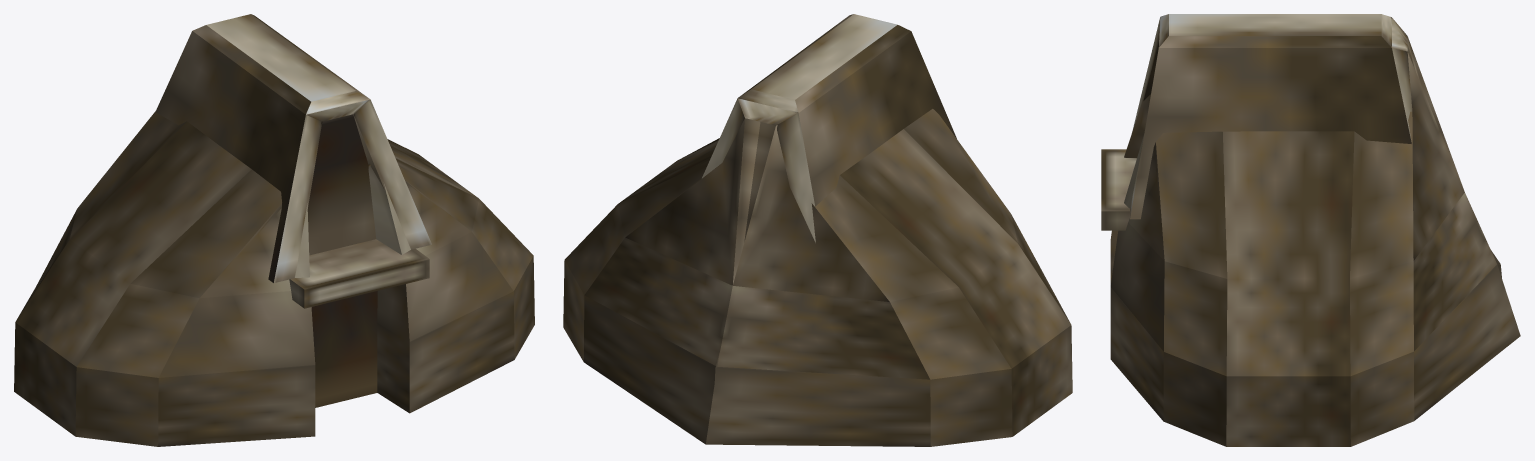
The model's file is Poly_World_Map_Town_House_14.obj.
The picture shows the model from 3 angles, left to right: view 1: azimuth 30°, elevation 25°; view 2: azimuth 150°, elevation 25°; view 3: azimuth 270°, elevation 25°; orthographic projection. The views are drawn at different scales.
Parts seen in each view (by area): view 1: Cube.002_Cube.002, Cube.002_Cube.003, Cube.002_Cube.001; view 2: Cube.002_Cube.002, Cube.002_Cube.003; view 3: Cube.002_Cube.002, Cube.002_Cube.003, Cube.002_Cube.001.
Part boxes in pixels (x1=…): Cube.002_Cube.002: x1=14, y1=111, x2=534, y2=446; Cube.002_Cube.003: x1=155, y1=14, x2=431, y2=283; Cube.002_Cube.001: x1=289, y1=113, x2=429, y2=407; Cube.002_Cube.002: x1=563, y1=109, x2=1072, y2=446; Cube.002_Cube.003: x1=702, y1=14, x2=956, y2=242; Cube.002_Cube.002: x1=1110, y1=37, x2=1520, y2=446; Cube.002_Cube.003: x1=1130, y1=14, x2=1412, y2=219; Cube.002_Cube.001: x1=1101, y1=149, x2=1136, y2=230.
Bounding box in the file's own units: 0.4059 × 0.2596 × 0.3173.
1 material, 1 textured.
